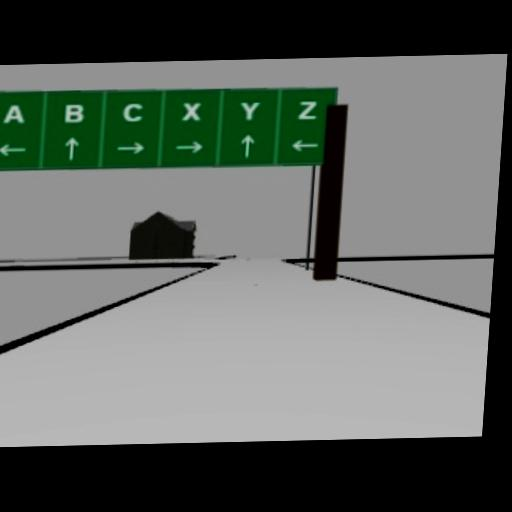A: (1, 102, 26, 121)
B: (62, 102, 85, 122)
C: (122, 101, 143, 121)
Left: (291, 137, 321, 151), (0, 142, 28, 155)
Right: (175, 138, 205, 153), (115, 139, 147, 153)
Straight: (239, 132, 255, 156), (63, 135, 79, 159)
X: (180, 100, 203, 119)
Y: (238, 99, 261, 120)
Z: (296, 99, 318, 119)
